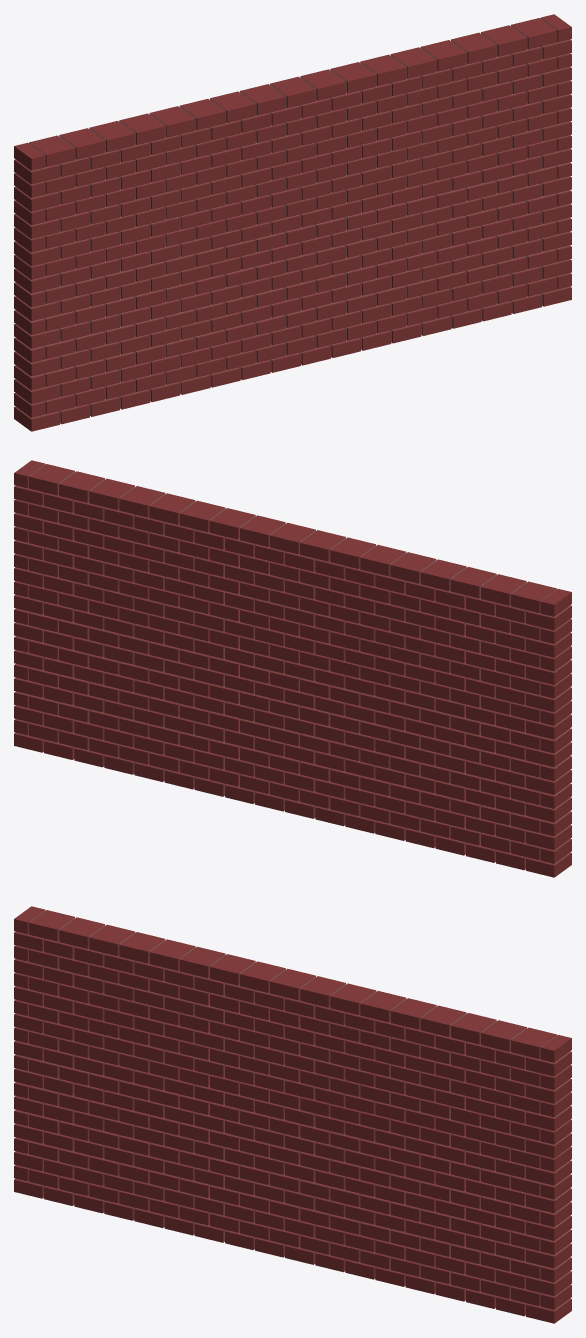
The model's file is n1_wall_lev1.glb.
3 views of the same model, one above another, from view 1: azimuth 30°, elevation 25°; view 2: azimuth 150°, elevation 25°; view 3: azimuth 330°, elevation 25° (orthographic).
Parts seen in each view (by area): view 1: n1_wall_lev1; view 2: n1_wall_lev1; view 3: n1_wall_lev1.
Part boxes in pixels (x1=…): n1_wall_lev1: x1=14, y1=14, x2=571, y2=431; n1_wall_lev1: x1=14, y1=460, x2=571, y2=877; n1_wall_lev1: x1=14, y1=906, x2=571, y2=1323.
Bounding box in the file's own units: 9831 × 4742 × 552.
